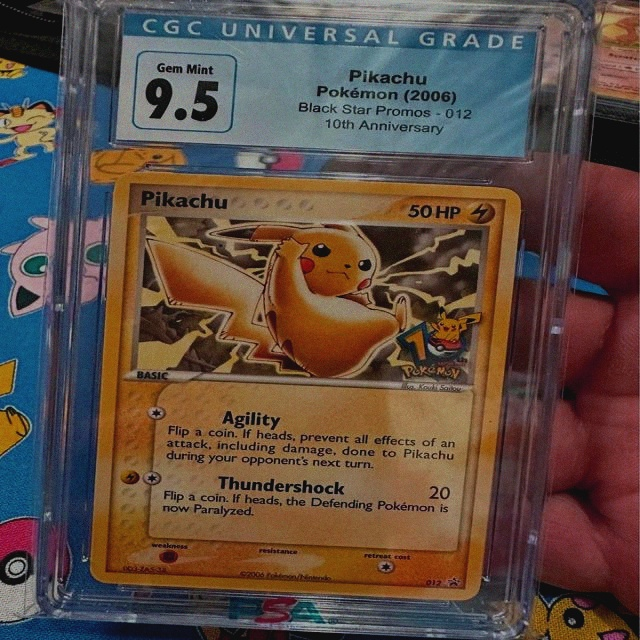card: (87, 169, 526, 603)
